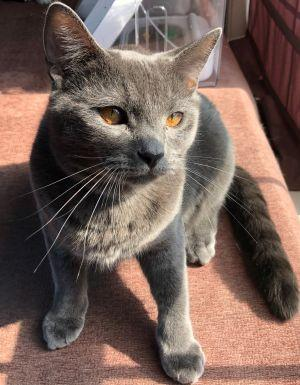rblue: (30, 1, 230, 215)
